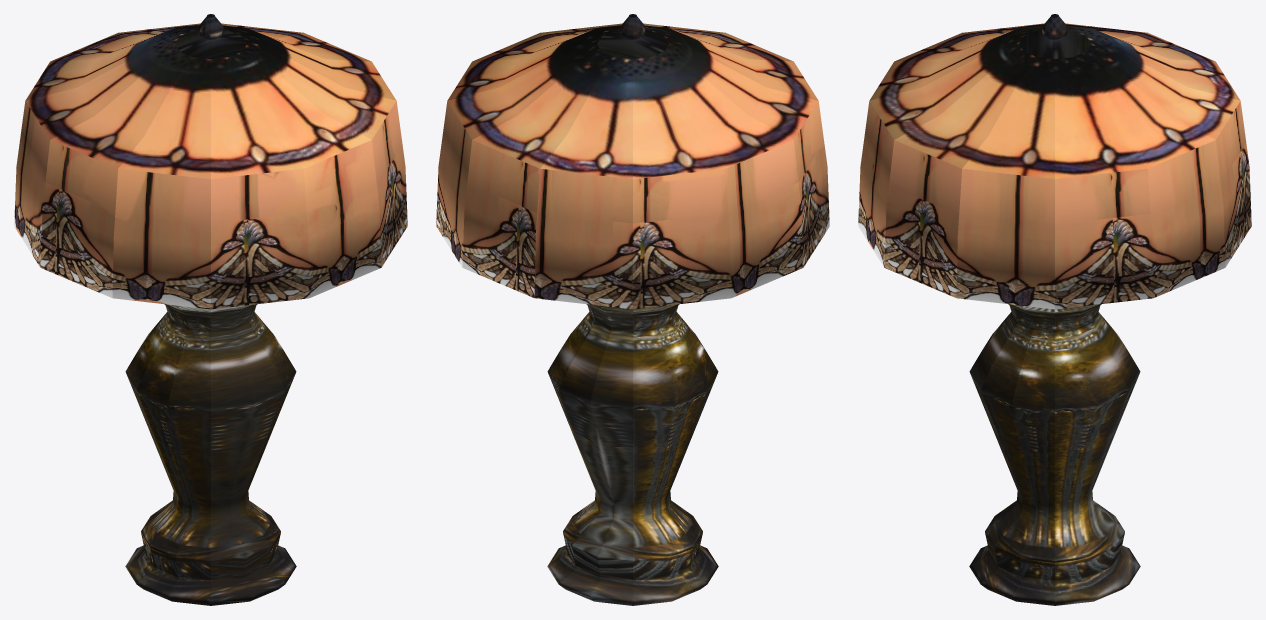
The model's file is PAST_TableLamp2.fbx.
3 renders of one model, left to right at view 1: azimuth 30°, elevation 25°; view 2: azimuth 150°, elevation 25°; view 3: azimuth 270°, elevation 25°, orthographic.
Parts seen in each view (by area): view 1: Table_Lamp_3; view 2: Table_Lamp_3; view 3: Table_Lamp_3.
Part boxes in pixels (<box>): Table_Lamp_3: <box>14,14,407,605</box>; Table_Lamp_3: <box>436,14,829,605</box>; Table_Lamp_3: <box>858,14,1251,605</box>.
Size of the model in its own units: 2.32 by 3.62 by 2.32.
Materials: 1 (1 with a texture image).
